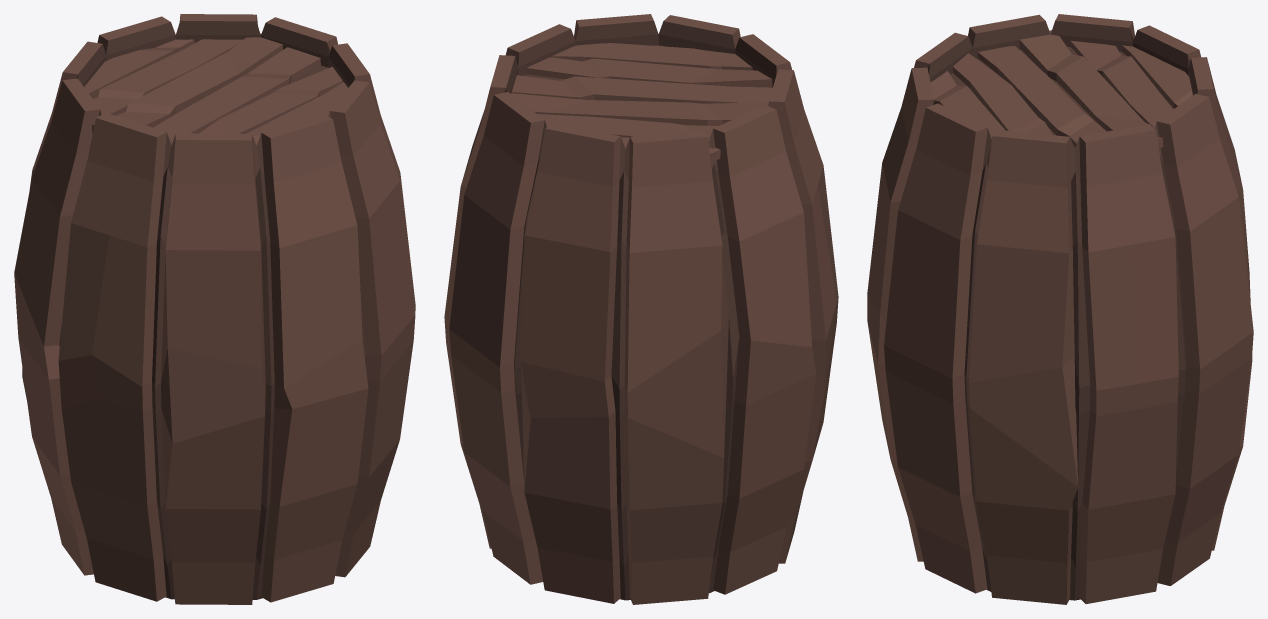
The model's file is Barrel2.glb.
3 views of the same model, side by side, from view 1: azimuth 30°, elevation 25°; view 2: azimuth 150°, elevation 25°; view 3: azimuth 270°, elevation 25° (orthographic).
Visible parts, largest first — view 1: Barrel2; view 2: Barrel2; view 3: Barrel2.
Boxes of the visible parts, <box> form: Barrel2: <box>14,14,415,604</box>; Barrel2: <box>444,14,838,604</box>; Barrel2: <box>867,14,1253,604</box>.
Size of the model in its own units: 0.4317 by 0.5656 by 0.4269.
